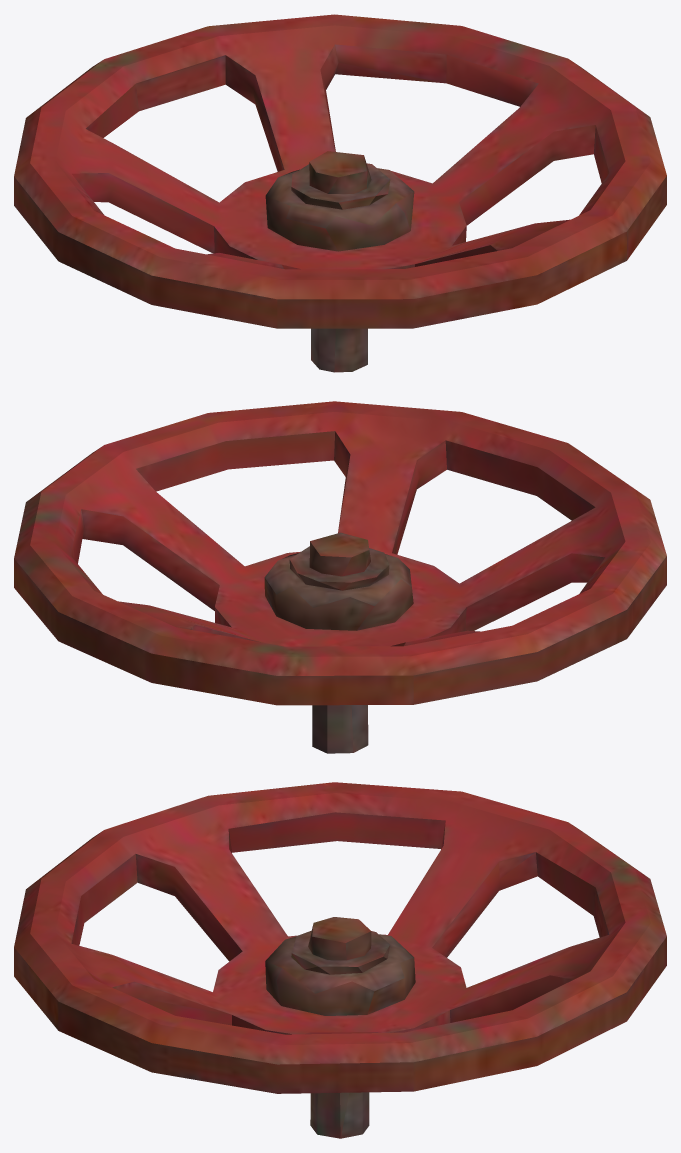
File: rusty_pipe_03.glb
The picture shows the model from 3 angles, top to bottom: view 1: azimuth 30°, elevation 25°; view 2: azimuth 150°, elevation 25°; view 3: azimuth 270°, elevation 25°; orthographic projection.
Parts seen in each view (by area): view 1: rusty_pipe_03; view 2: rusty_pipe_03; view 3: rusty_pipe_03.
Part boxes in pixels (<box>): rusty_pipe_03: <box>14,14,666,372</box>; rusty_pipe_03: <box>14,401,666,753</box>; rusty_pipe_03: <box>14,782,666,1138</box>.
Size of what is drawn, in the model's own units: 0.0558 by 0.0203 by 0.056.
Materials: 1 (1 with a texture image).
